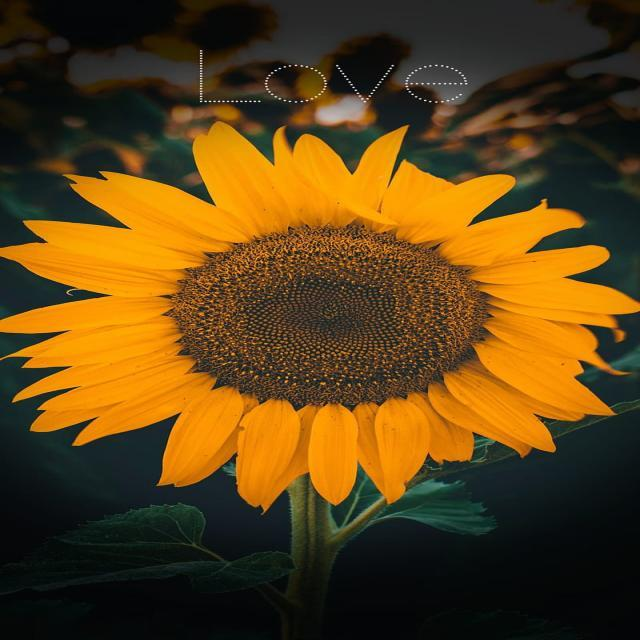sunflower: (1, 120, 638, 514)
